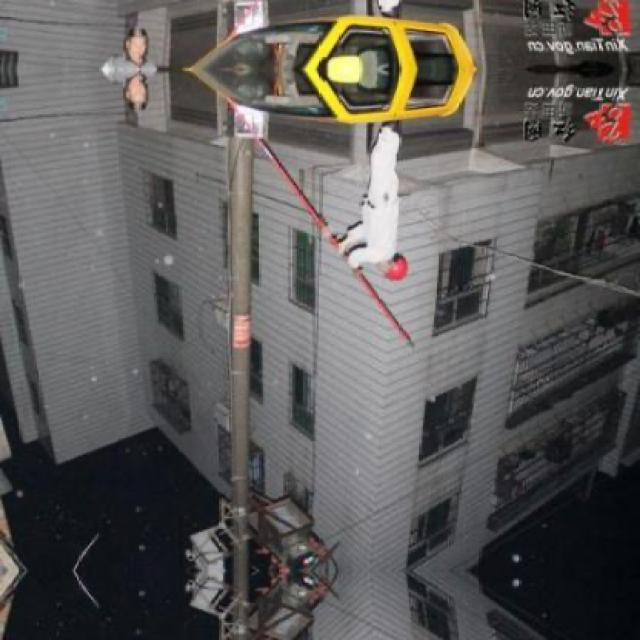con casco: (345, 240, 416, 298)
